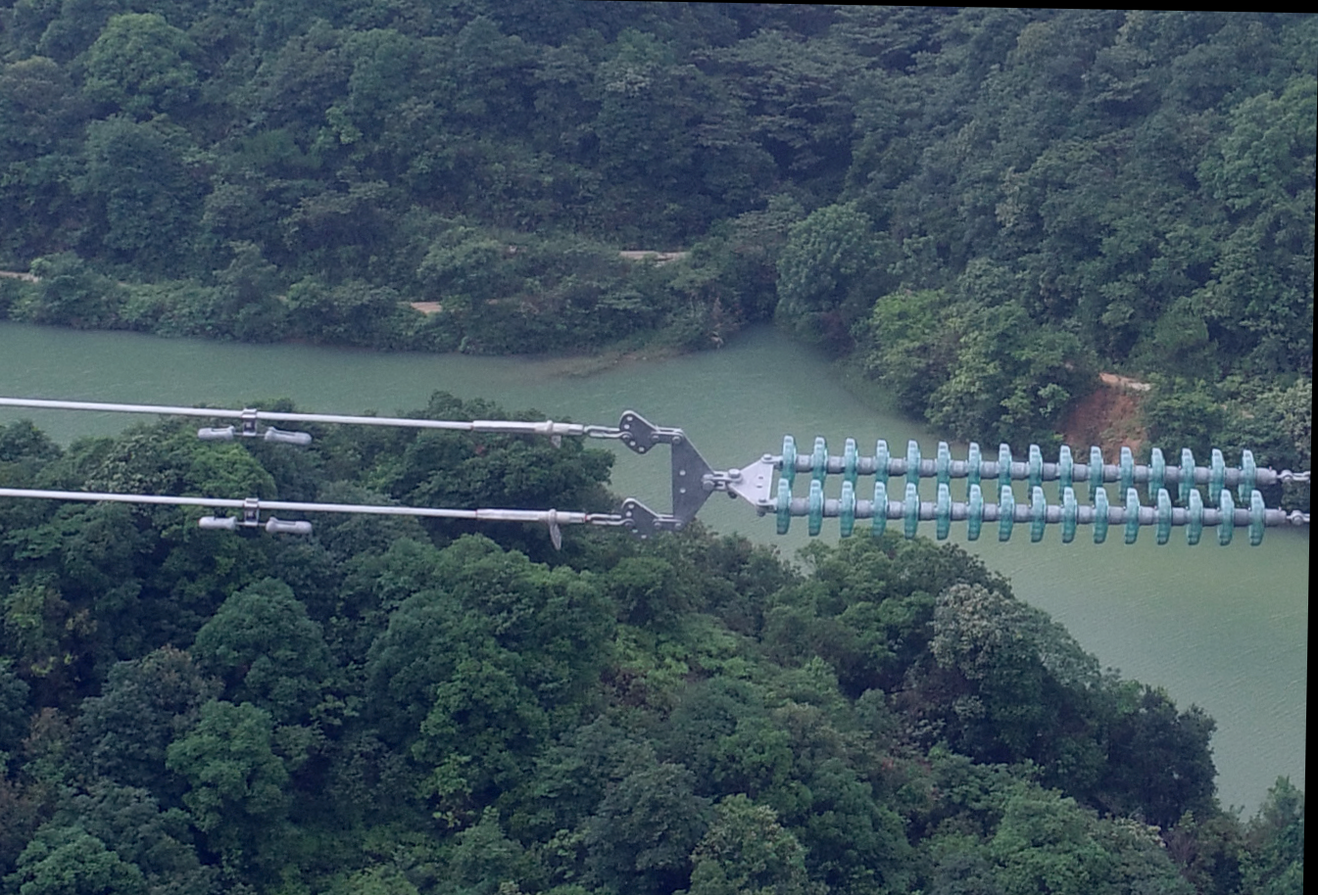damper: (195, 495, 316, 540), (195, 403, 314, 448)
